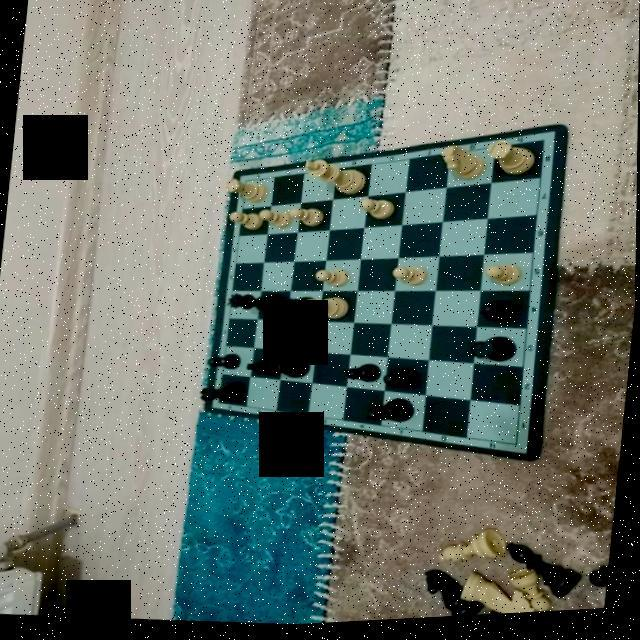chess-table-corners: (508, 442, 525, 458), (536, 140, 552, 152), (212, 398, 225, 411), (238, 177, 250, 190)
